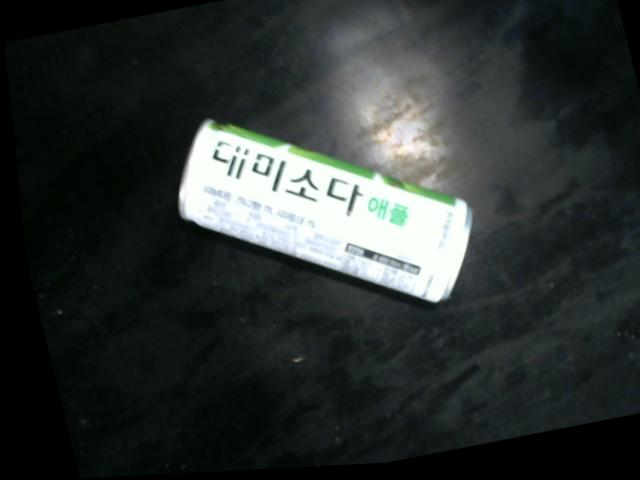can: (173, 118, 470, 309)
